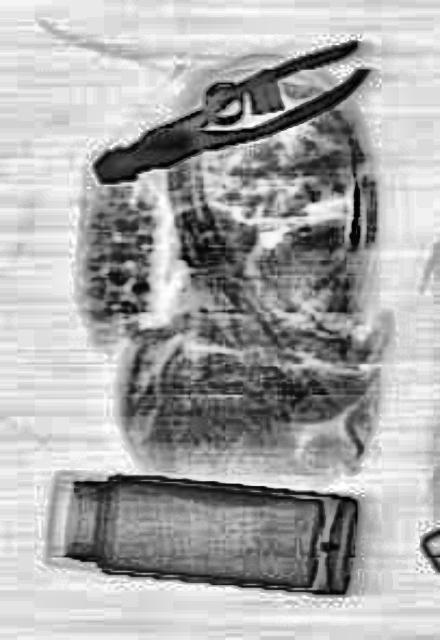Pliers: (86, 27, 373, 205)
